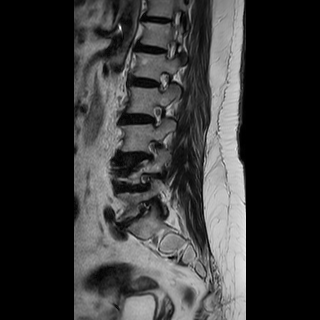LFS0: (150, 66, 173, 96), (145, 99, 165, 132)
